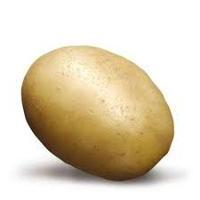biodegradable: (21, 44, 176, 182)
